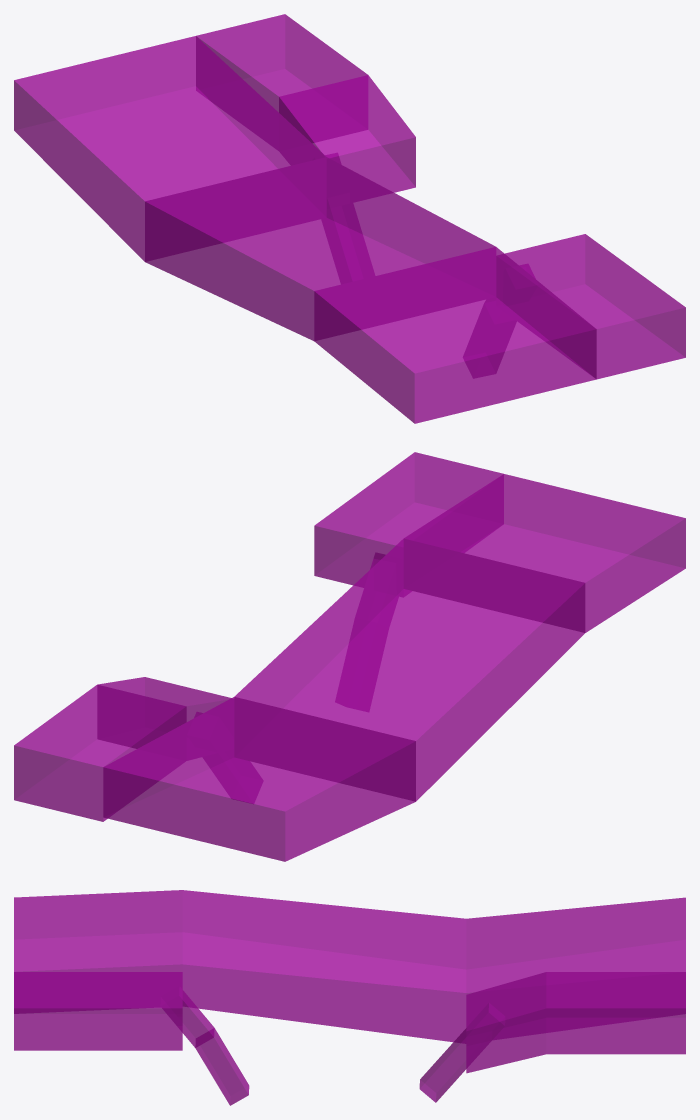
Rendered from SM_Prop_Pipe_Damaged_03_Collision.fbx.
3 views of the same model, one above another, from view 1: azimuth 30°, elevation 25°; view 2: azimuth 150°, elevation 25°; view 3: azimuth 270°, elevation 25° (orthographic). The views are drawn at different scales.
Parts seen in each view (by area): view 1: SM_Prop_Pipe_Damaged_03_Collision; view 2: SM_Prop_Pipe_Damaged_03_Collision; view 3: SM_Prop_Pipe_Damaged_03_Collision.
Boxes of the visible parts, box(x1,y1,x2,y2) form: SM_Prop_Pipe_Damaged_03_Collision: box(14, 14, 685, 423); SM_Prop_Pipe_Damaged_03_Collision: box(14, 452, 685, 861); SM_Prop_Pipe_Damaged_03_Collision: box(14, 890, 685, 1105).
Size of the model in its own units: 99 by 54.11 by 253.
